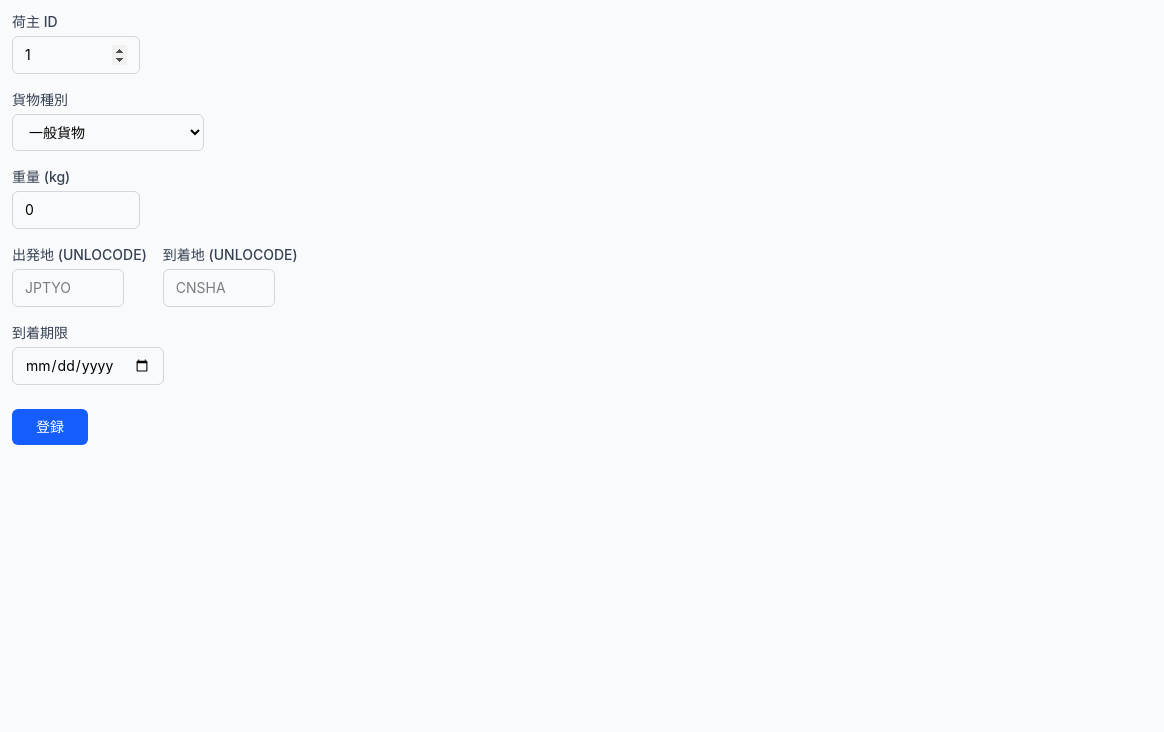
Scenario: BookingForm › 冷蔵貨物を選択すると温度管理条件フィールドが表示される
The width and height of the screenshot is (1164, 732).
Expected: the field labelled "最低温度" is not shown
Note:  冷蔵貨物を選択
Select "冷蔵貨物" in the dropdown labelled "貨物種別" at [108, 132], box left=12, top=114, right=204, bottom=151
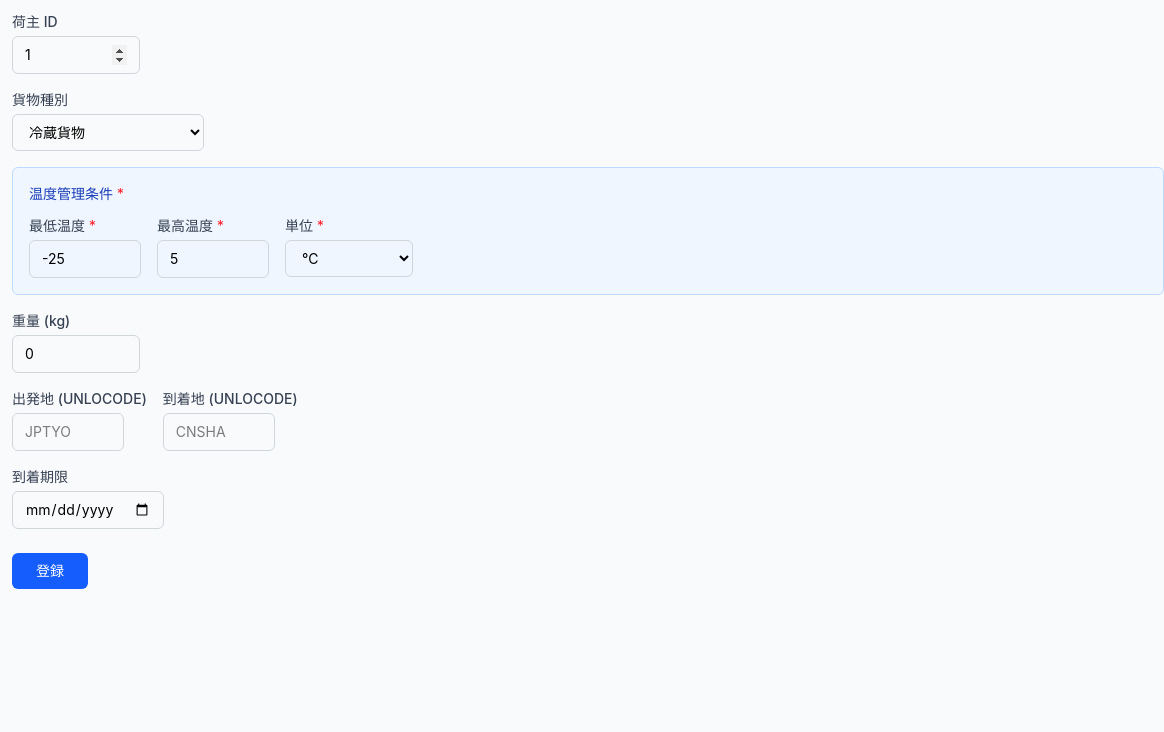
Expected: the number field labelled "最低温度 *" is shown, left=29, top=240, right=141, bottom=278
Expected: the number field labelled "最高温度 *" is shown, left=157, top=240, right=269, bottom=278
